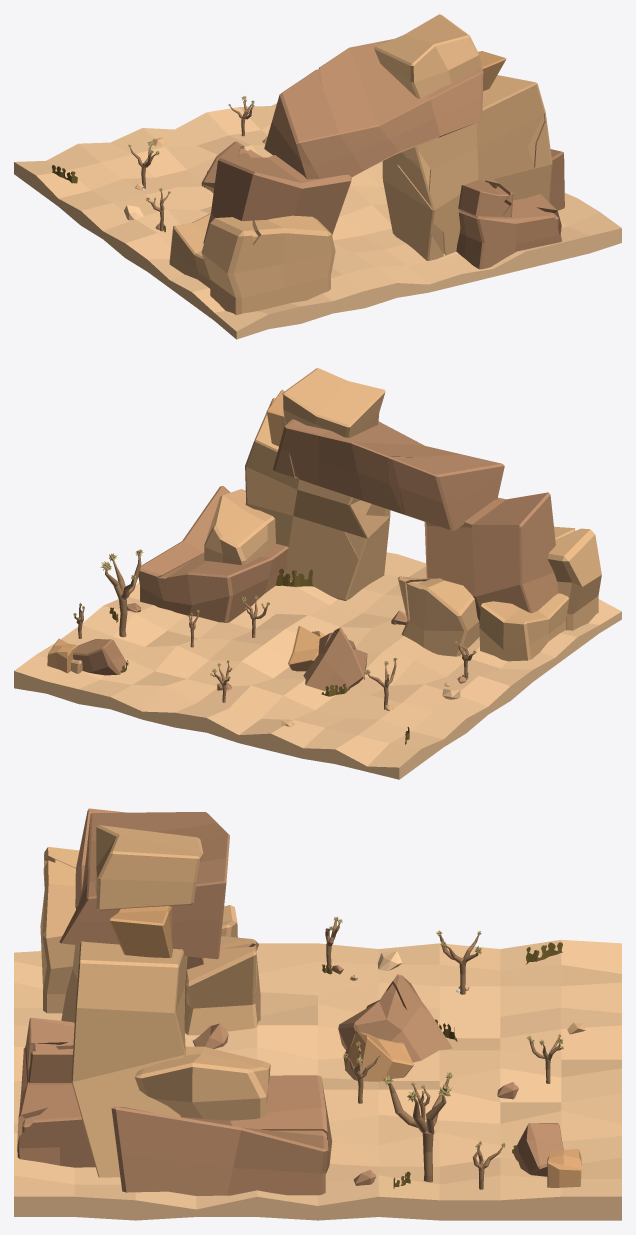
Rendered from sandislandfinal3g.glb.
3 views of the same model, one above another, from view 1: azimuth 30°, elevation 25°; view 2: azimuth 150°, elevation 25°; view 3: azimuth 270°, elevation 25° (orthographic). The views are drawn at different scales.
Visible parts, largest first — view 1: Cube, Cube.004, Cube.001, Cube.005, Cube.002, Cube.009, Cube.008, Cube.010, Cube.003, Cube.045, Cube.006; view 2: Cube, Cube.004, Cube.001, Cube.002, Cube.003, Cube.011, Cube.008, Cube.010, Cube.005, Cube.007, Cube.045, Cube.041 (+3 smaller); view 3: Cube, Cube.003, Cube.001, Cube.004, Cube.009, Cube.008, Cube.007, Cube.011, Cube.005, Cube.045, Cube.006, Cube.044 (+4 smaller).
Boxes of the visible parts, x1,y1,x2,y2 form: Cube: (14, 103, 621, 339); Cube.004: (264, 39, 483, 179); Cube.001: (382, 75, 552, 260); Cube.005: (201, 215, 335, 314); Cube.002: (203, 155, 351, 243); Cube.009: (456, 179, 561, 269); Cube.008: (374, 14, 483, 98); Cube.010: (169, 213, 210, 288); Cube.003: (549, 149, 564, 210); Cube.045: (201, 141, 262, 193); Cube.006: (478, 51, 506, 91); Cube: (14, 552, 621, 779); Cube.004: (273, 419, 504, 530); Cube.001: (245, 398, 390, 600); Cube.002: (424, 492, 558, 623); Cube.003: (138, 486, 288, 622); Cube.011: (398, 576, 479, 656); Cube.008: (282, 368, 385, 437); Cube.010: (479, 593, 568, 661); Cube.005: (547, 526, 601, 630); Cube.007: (204, 489, 275, 565); Cube.045: (303, 627, 367, 691); Cube.041: (72, 639, 126, 675); Cube: (14, 939, 621, 1220); Cube.003: (111, 1075, 332, 1195); Cube.001: (61, 941, 187, 1177); Cube.004: (59, 812, 229, 959); Cube.009: (17, 1017, 95, 1167); Cube.008: (95, 825, 203, 910); Cube.007: (134, 1046, 270, 1120); Cube.011: (184, 936, 260, 1035); Cube.005: (40, 847, 79, 1013); Cube.045: (338, 974, 452, 1062); Cube.006: (109, 906, 172, 957); Cube.044: (343, 1031, 413, 1081).
Size of the model in its own units: 42.28 by 24.98 by 42.28.
